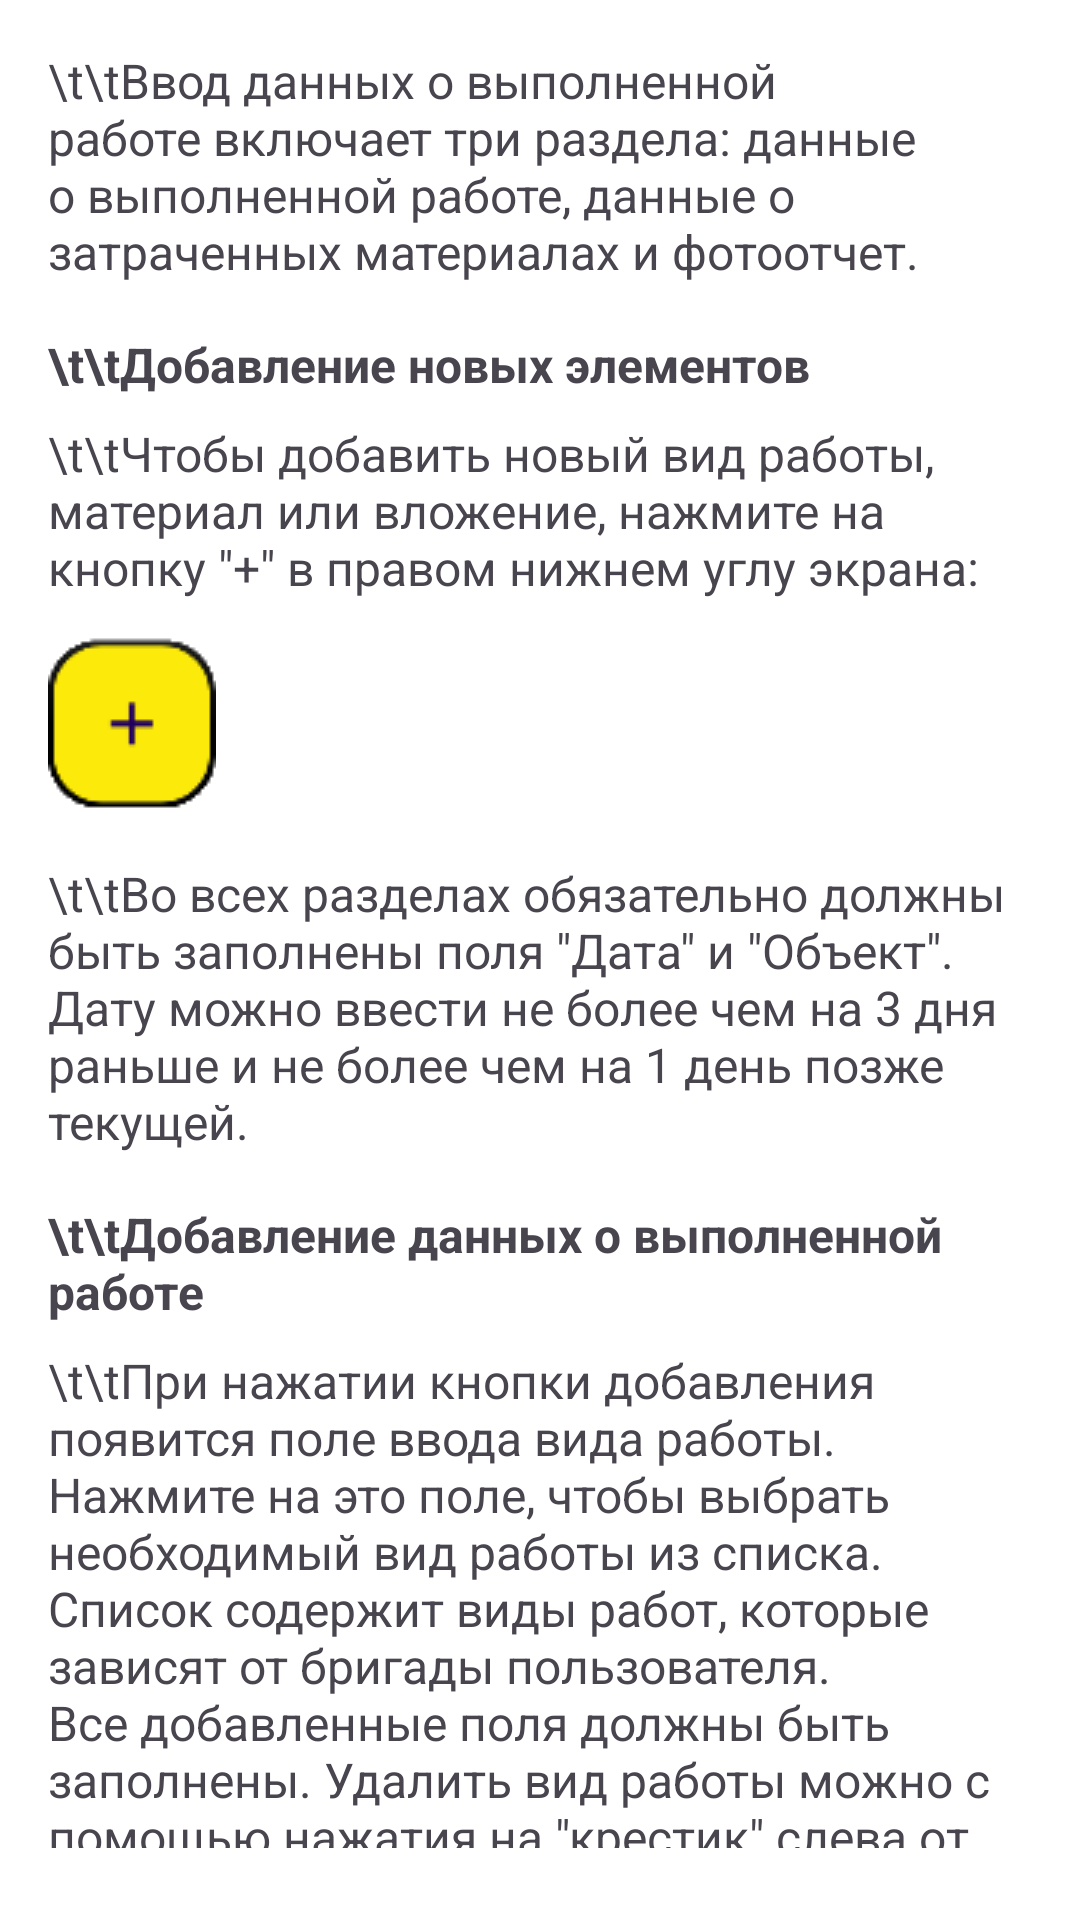

Screen size 1080px×1920px. Icon name, then its box in pixels as BBox(x1, y1, x2, y2):
add: BBox(48, 638, 216, 808)
